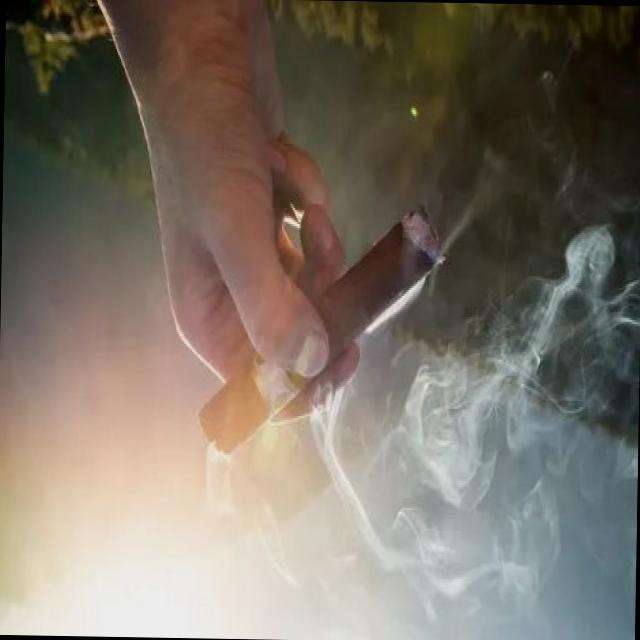cigarette: (196, 188, 449, 464)
